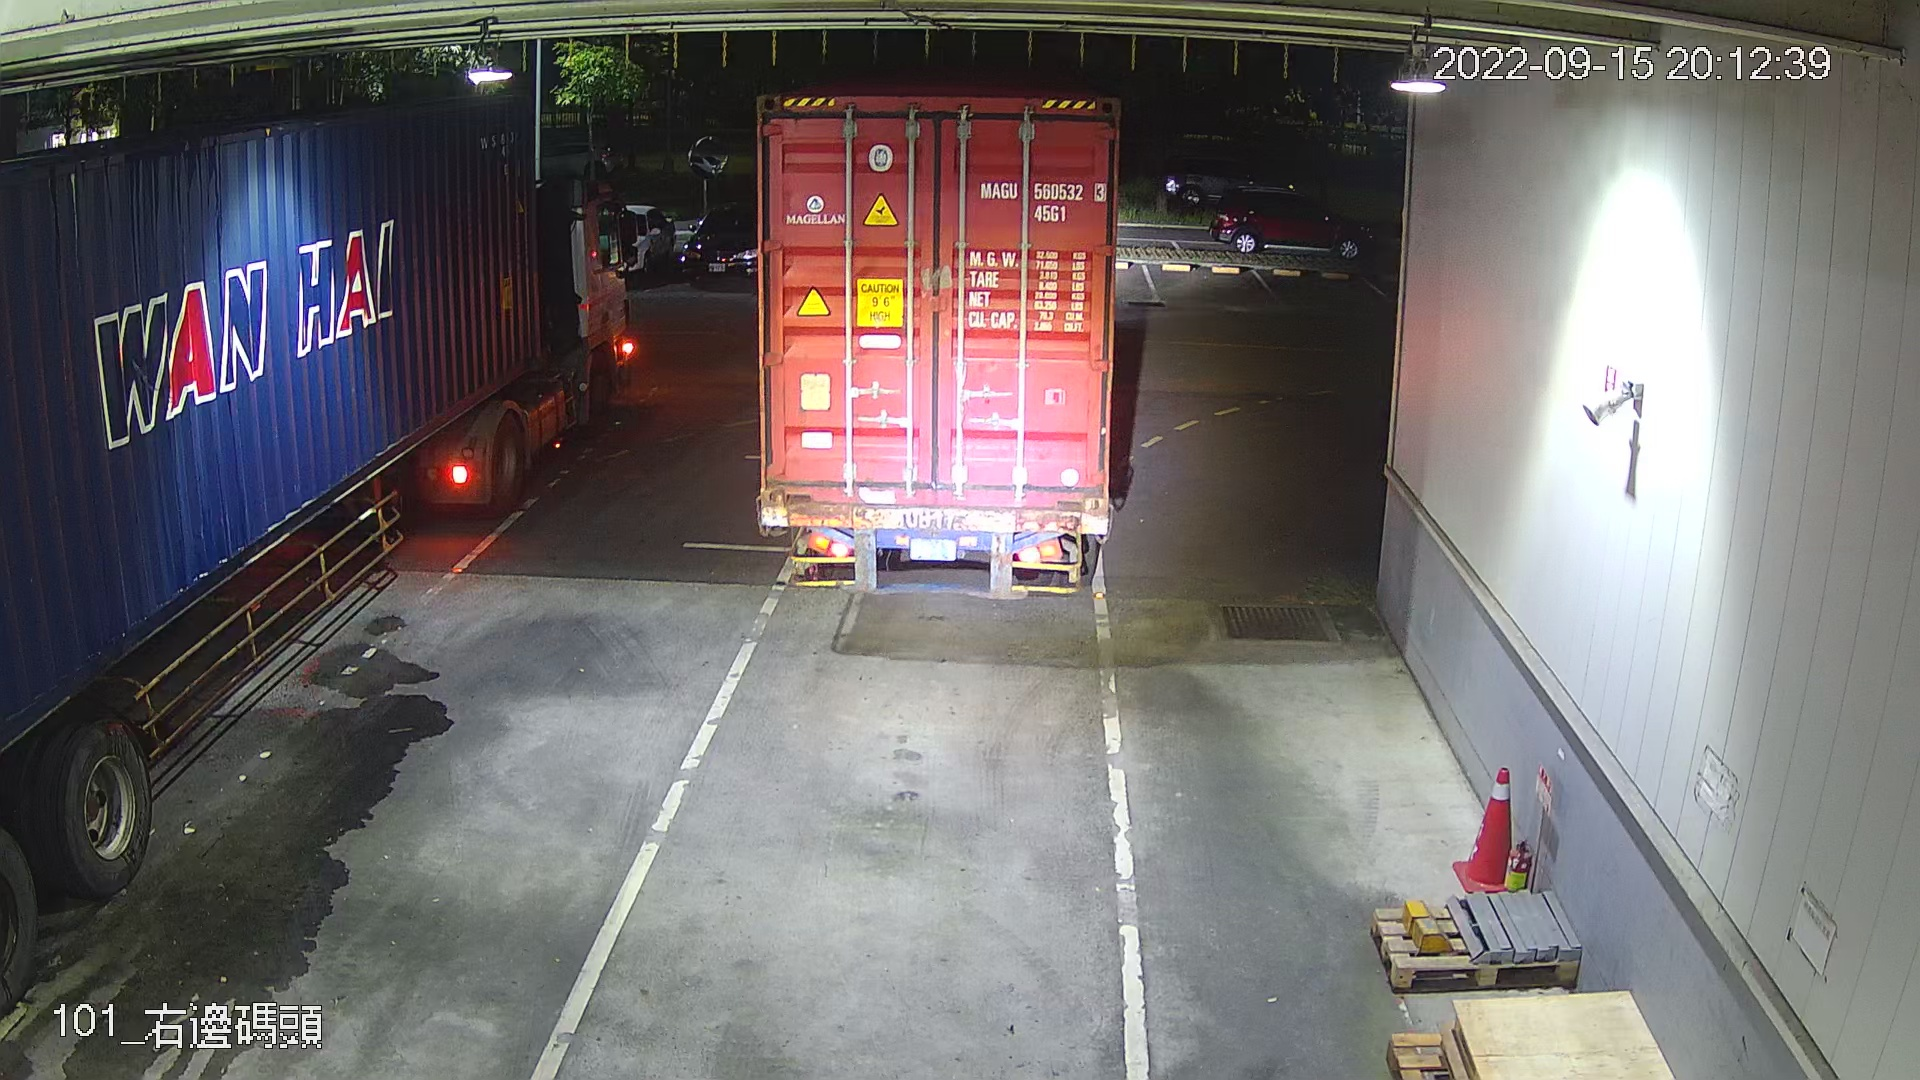container: (975, 170, 1112, 232)
